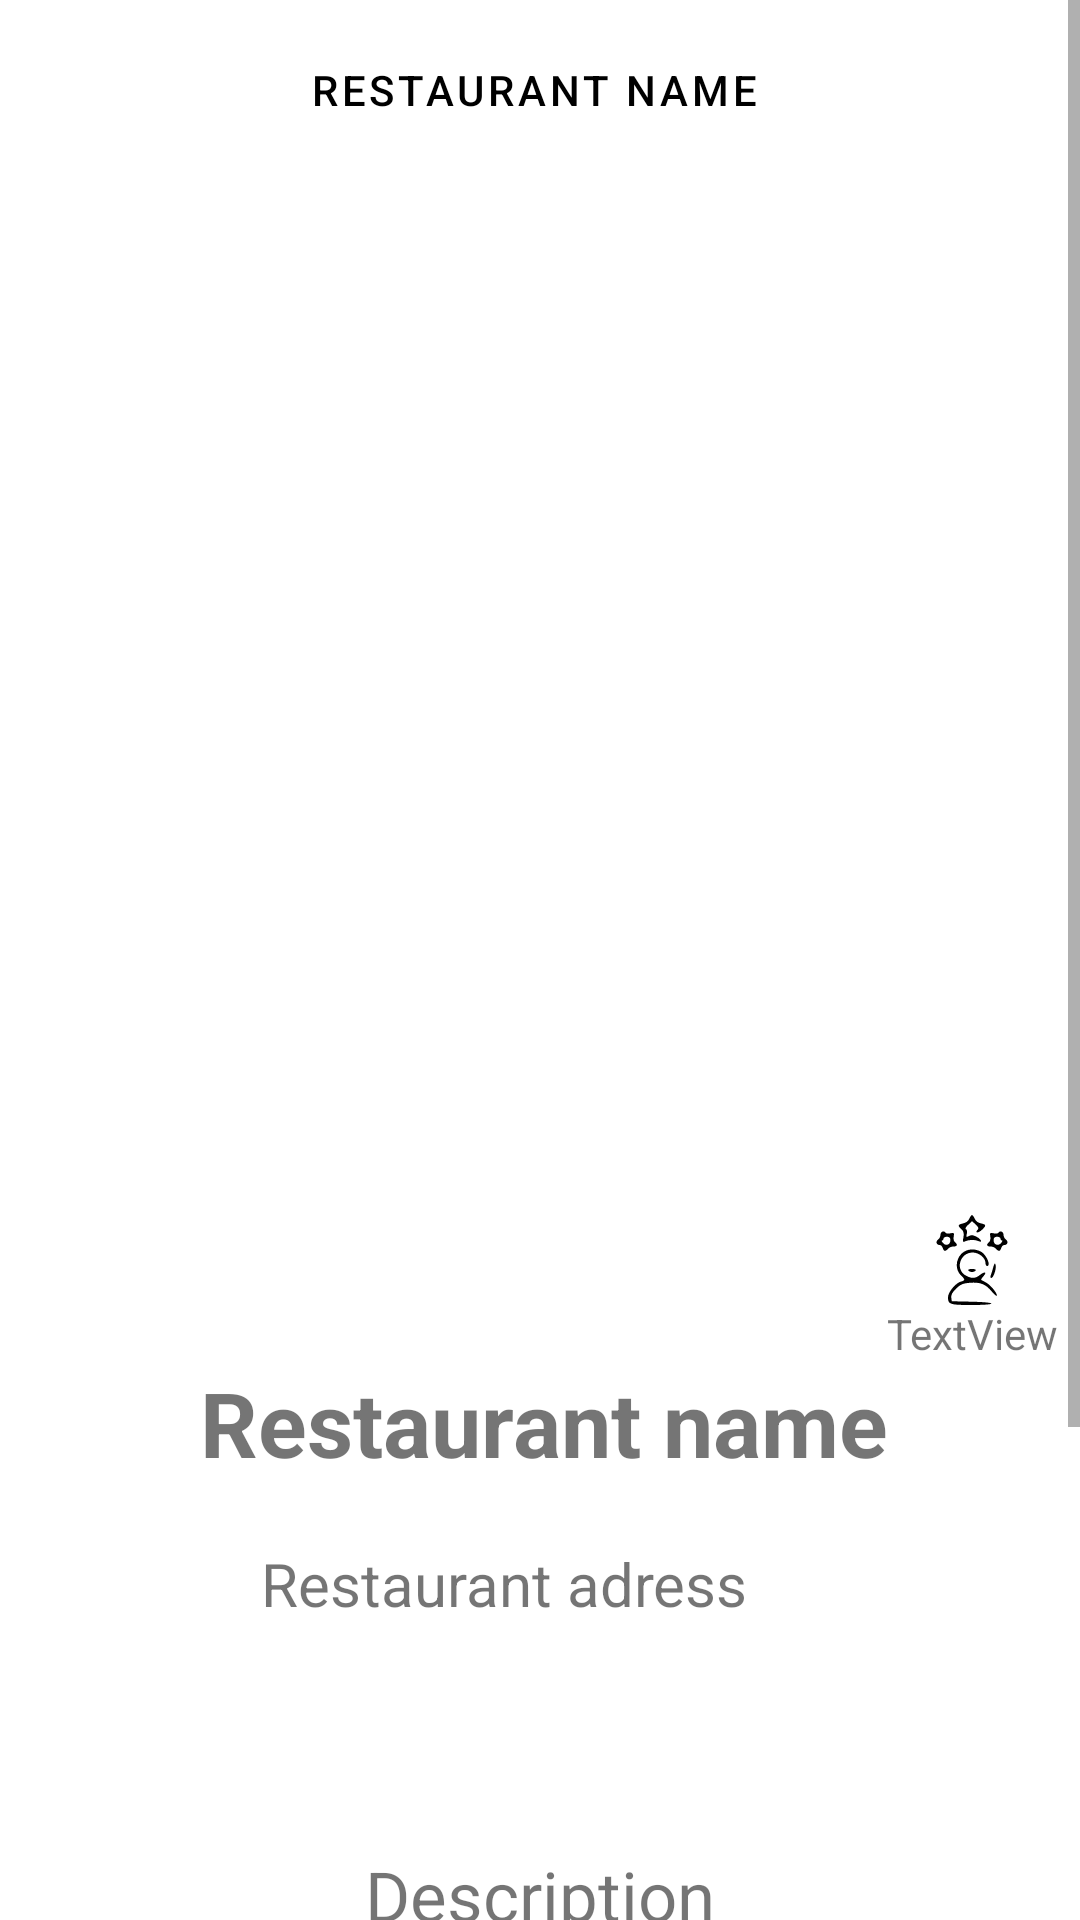

Named icons in this screenshot (1080px x 1920px) and their centers, [x,y]:
rating: [972,1260]
